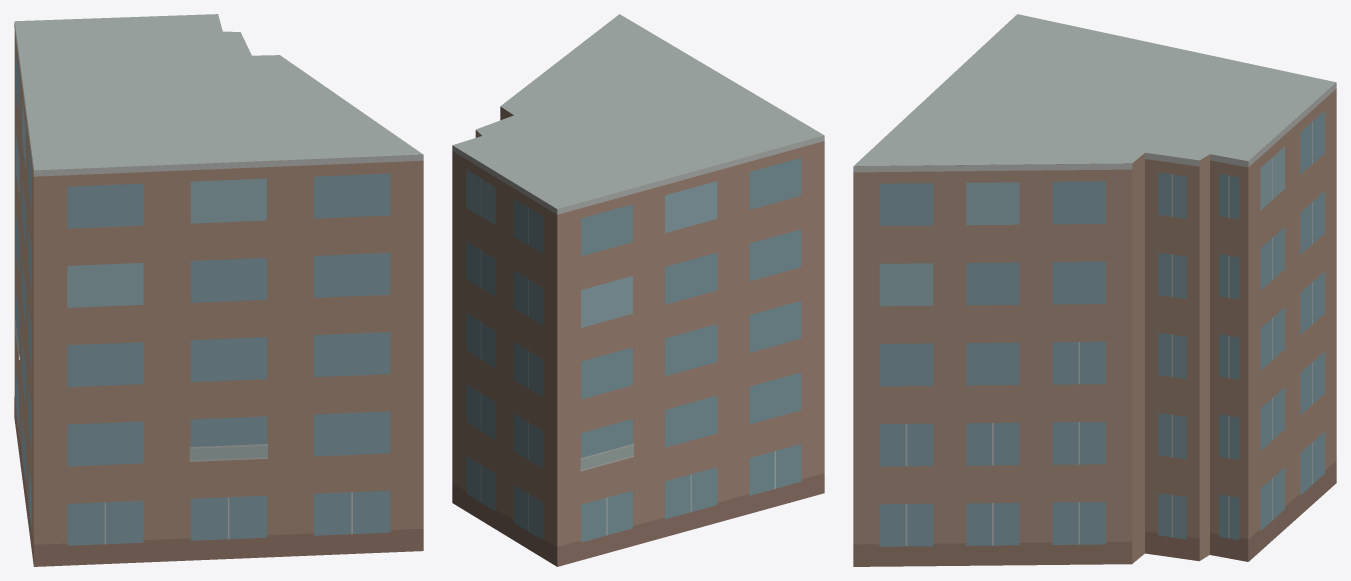
Rendered from survey-upis-32477961.glb.
3 views of the same model, side by side, from view 1: azimuth 30°, elevation 25°; view 2: azimuth 150°, elevation 25°; view 3: azimuth 270°, elevation 25° (orthographic). The views are drawn at different scales.
Parts seen in each view (by area): view 1: survey-upis-32477961.tmp; view 2: survey-upis-32477961.tmp; view 3: survey-upis-32477961.tmp.
Boxes of the visible parts, x1,y1,x2,y2 form: survey-upis-32477961.tmp: (14, 14, 423, 566); survey-upis-32477961.tmp: (452, 14, 824, 566); survey-upis-32477961.tmp: (853, 14, 1336, 566).
Bounding box in the file's own units: 12.79 × 15.69 × 17.15.
